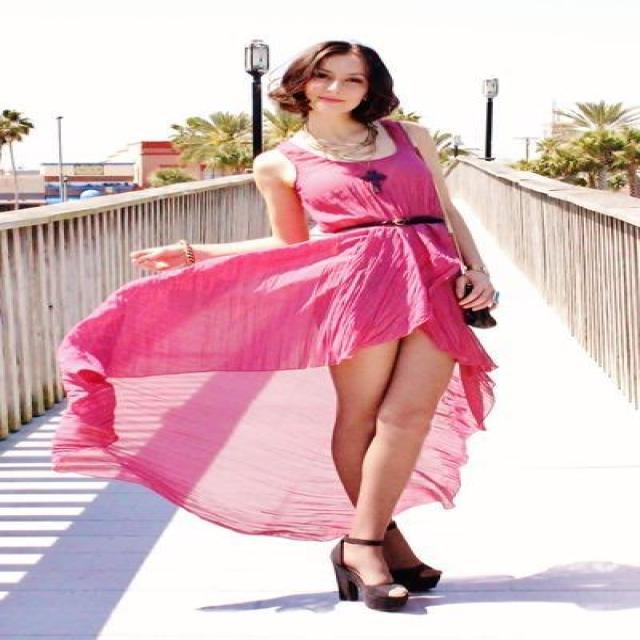dress: (50, 118, 496, 541)
shoe: (325, 534, 440, 608)
